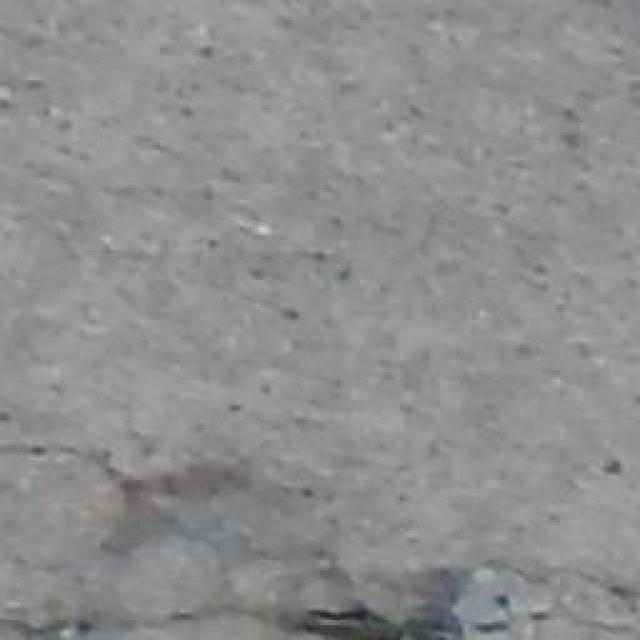concrete-crack: (164, 558, 640, 640)
